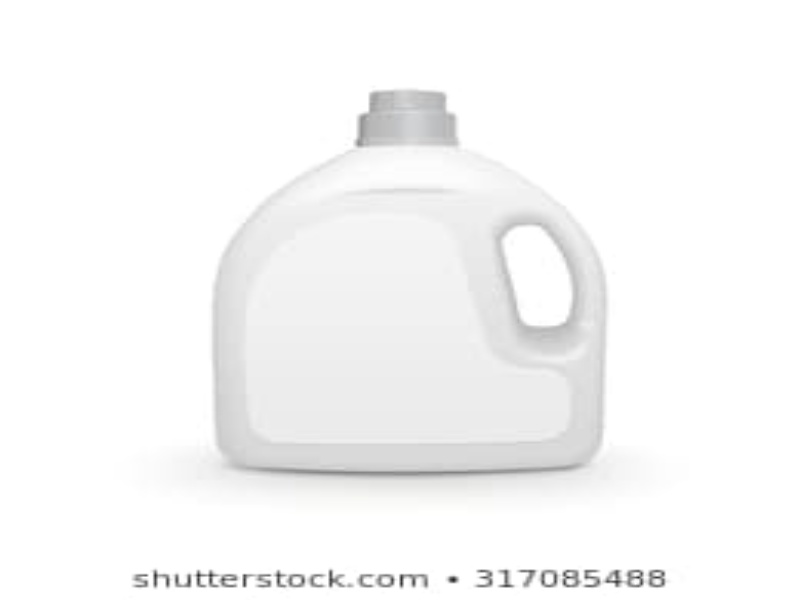bottle-cap: (348, 90, 461, 142)
detergent-bottle: (211, 87, 608, 475)
